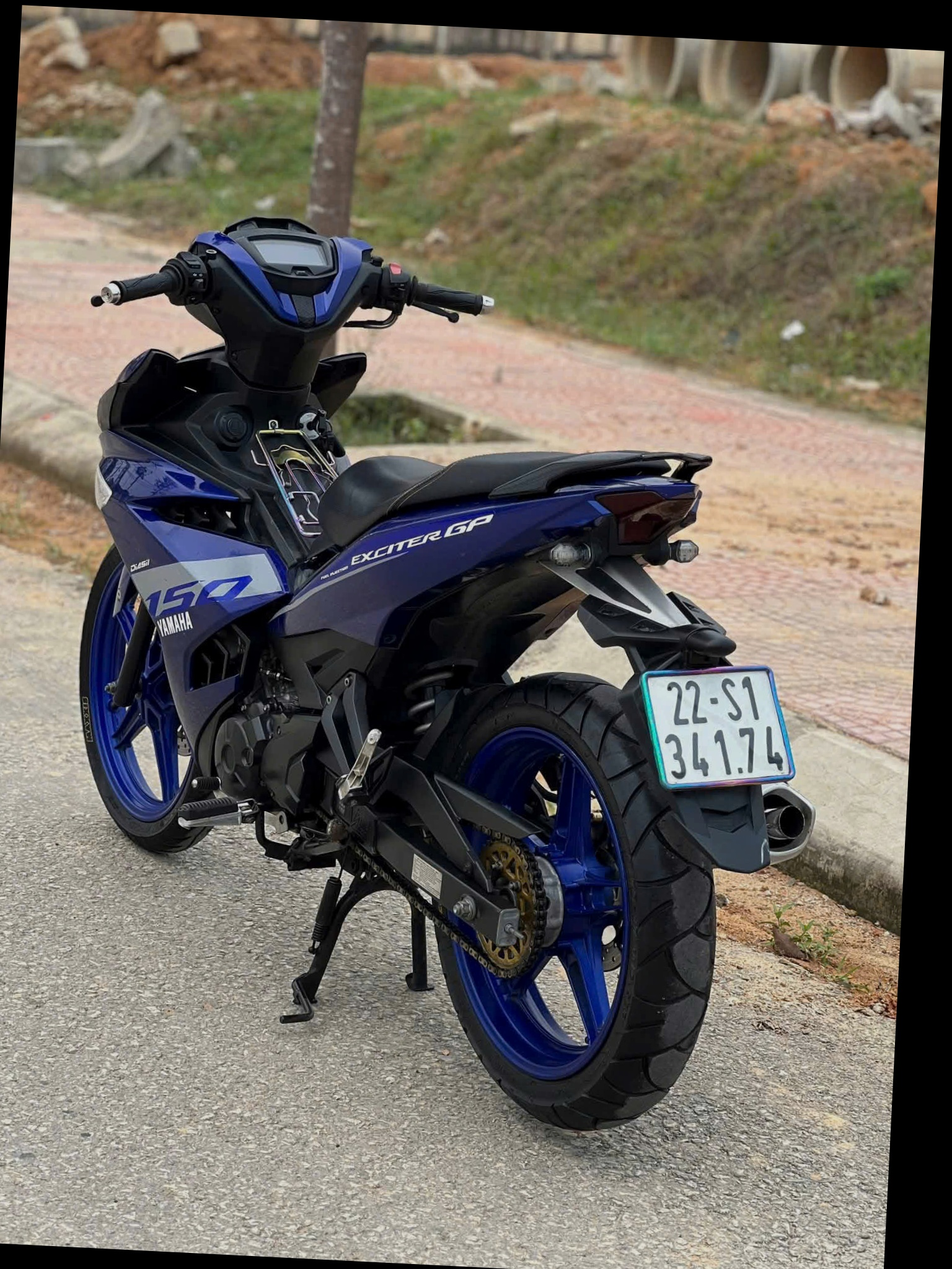Bien-so: (689, 621, 867, 757)
